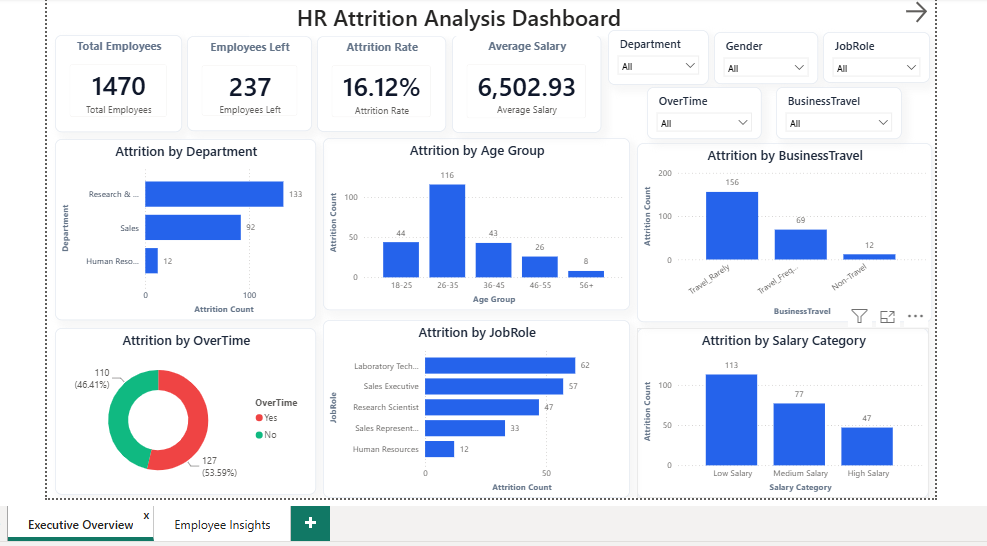

Layout of this report page (visuals, bound fields, positions):
{"tool":"powerbi","page":{"name":"Executive Overview","canvas":[1280,720],"ordinal":0},"visuals":[{"type":"cardVisual","title":"Total Employees","fields":{"Data":["hr_employee_attrition.Total Employees"]},"box":[11.5,53.3,182.9,139.7],"z":0},{"type":"cardVisual","title":"Employees Left","fields":{"Data":["hr_employee_attrition.Employees Left"]},"box":[201.6,54.7,180,136.8],"z":1000},{"type":"cardVisual","title":"Attrition Rate","fields":{"Data":["hr_employee_attrition.Attrition Rate"]},"box":[388.8,54.7,185.8,138.2],"z":2000},{"type":"cardVisual","title":"Average Salary","fields":{"Data":["hr_employee_attrition.Average Salary"]},"box":[583.2,53.3,214.6,141.1],"z":3000},{"type":"clusteredBarChart","title":"Attrition by Department","fields":{"Category":["hr_employee_attrition.Department"],"Y":["hr_employee_attrition.Attrition Count"]},"box":[11.5,203,375.8,260.6],"z":4000},{"type":"textbox","box":[290.6,0,604.7,55.4],"z":5000},{"type":"clusteredColumnChart","title":"Attrition by Age Group","fields":{"Category":["hr_employee_attrition.Age Group"],"Y":["hr_employee_attrition.Attrition Count"]},"box":[397.4,201.6,442.1,247.7],"z":6000},{"type":"donutChart","title":"Attrition by OverTime","fields":{"Category":["hr_employee_attrition.OverTime"],"Y":["hr_employee_attrition.Attrition Count"]},"box":[11.8,475.4,376.3,240.2],"z":7000},{"type":"clusteredBarChart","title":"Attrition by JobRole","fields":{"Y":["hr_employee_attrition.Attrition Count"],"Category":["hr_employee_attrition.JobRole"]},"box":[397.4,463.7,442.1,256.3],"z":8000},{"type":"clusteredColumnChart","title":"Attrition by BusinessTravel","fields":{"Category":["hr_employee_attrition.BusinessTravel"],"Y":["hr_employee_attrition.Attrition Count"]},"box":[849.6,208.8,424.8,257.8],"z":9000},{"type":"clusteredColumnChart","title":"Attrition by Salary Category","fields":{"Y":["hr_employee_attrition.Attrition Count"],"Category":["hr_employee_attrition.Salary Category"]},"box":[849.6,475.2,420.5,244.8],"z":10000},{"type":"slicer","fields":{"Values":["hr_employee_attrition.Department"]},"box":[808.5,46.3,145.4,79.3],"z":11000},{"type":"slicer","fields":{"Values":["hr_employee_attrition.Gender"]},"box":[960.6,48.5,149.8,74.9],"z":12000},{"type":"slicer","fields":{"Values":["hr_employee_attrition.JobRole"]},"box":[1117,48.5,154.2,72.7],"z":13000},{"type":"slicer","fields":{"Values":["hr_employee_attrition.OverTime"]},"box":[863.6,127.8,165.2,74.9],"z":14000},{"type":"slicer","fields":{"Values":["hr_employee_attrition.BusinessTravel"]},"box":[1049.8,128.2,181.4,74.9],"z":15000},{"type":"actionButton","box":[1231.3,0,48.7,40.3],"z":16000}]}

Visuals, with their boxes on the page's 1280x720 design canvas (x1, y1, x2, y2). These are canvas units, not pixel positions in the 987x546 screenshot, which may show the page scaled, cropped or inside an application window:
"Total Employees" cardVisual: (12, 53, 194, 193)
"Employees Left" cardVisual: (202, 55, 382, 192)
"Attrition Rate" cardVisual: (389, 55, 575, 193)
"Average Salary" cardVisual: (583, 53, 798, 194)
"Attrition by Department" clusteredBarChart: (12, 203, 387, 464)
textbox: (291, 0, 895, 55)
"Attrition by Age Group" clusteredColumnChart: (397, 202, 840, 449)
"Attrition by OverTime" donutChart: (12, 475, 388, 716)
"Attrition by JobRole" clusteredBarChart: (397, 464, 840, 720)
"Attrition by BusinessTravel" clusteredColumnChart: (850, 209, 1274, 467)
"Attrition by Salary Category" clusteredColumnChart: (850, 475, 1270, 720)
slicer - hr_employee_attrition.Department: (808, 46, 954, 126)
slicer - hr_employee_attrition.Gender: (961, 48, 1110, 123)
slicer - hr_employee_attrition.JobRole: (1117, 48, 1271, 121)
slicer - hr_employee_attrition.OverTime: (864, 128, 1029, 203)
slicer - hr_employee_attrition.BusinessTravel: (1050, 128, 1231, 203)
actionButton: (1231, 0, 1280, 40)
